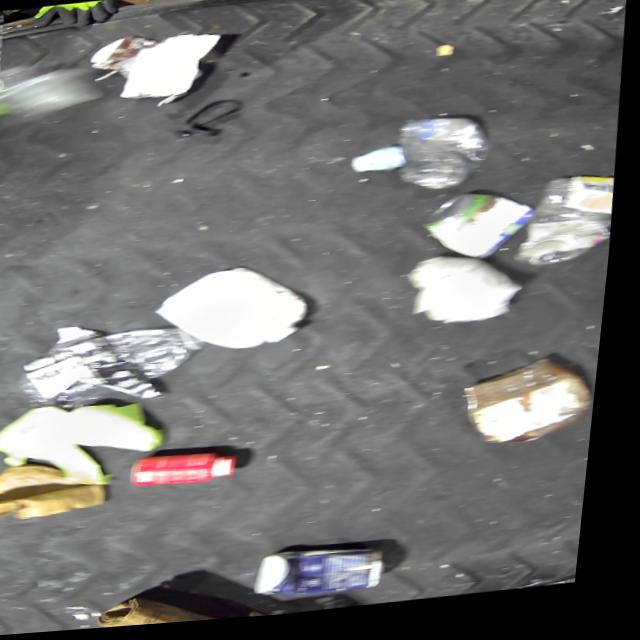can: (420, 193, 542, 274), (261, 545, 400, 607)
milk_jug: (155, 263, 321, 362)
plastic_bottle: (20, 325, 216, 416), (515, 180, 622, 276), (394, 118, 496, 202)
